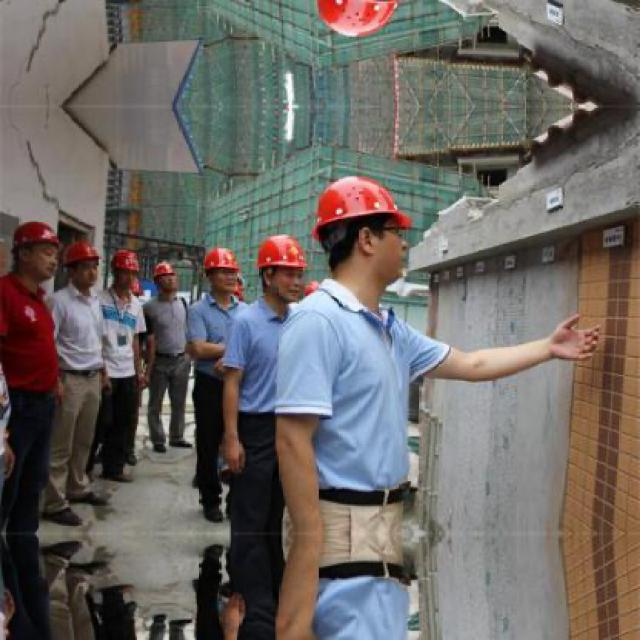helmet: (320, 173, 406, 287), (319, 0, 406, 42), (256, 234, 304, 304), (12, 218, 63, 278), (200, 247, 238, 299), (66, 237, 103, 287), (112, 248, 142, 293), (151, 259, 180, 296)
